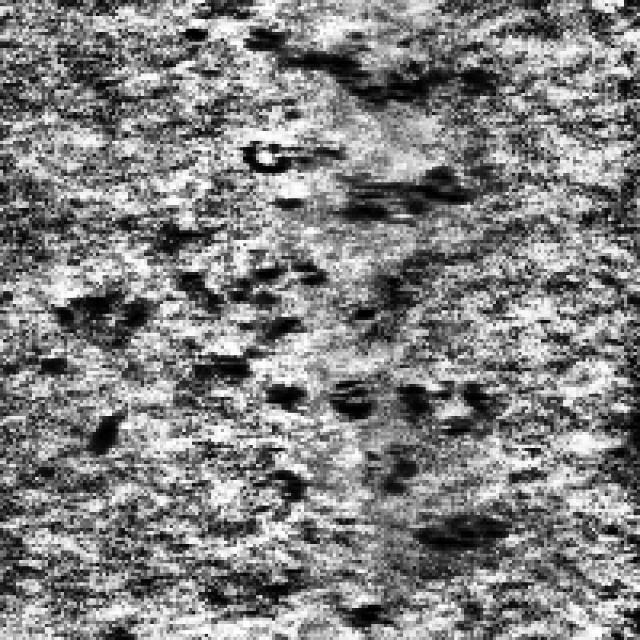Crazing: (170, 259, 500, 554), (214, 19, 461, 221)
